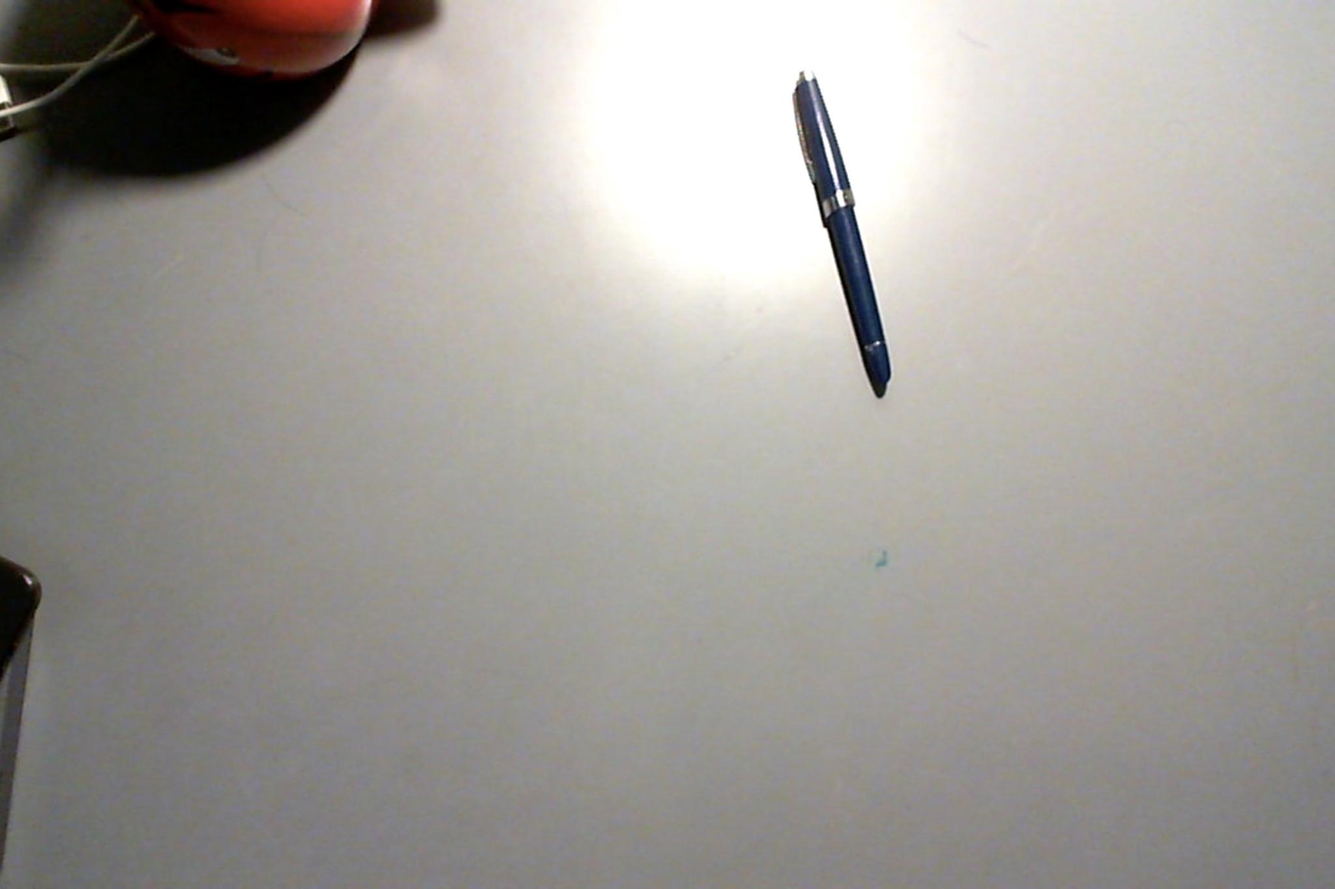pen-pencil: (799, 77, 891, 398)
